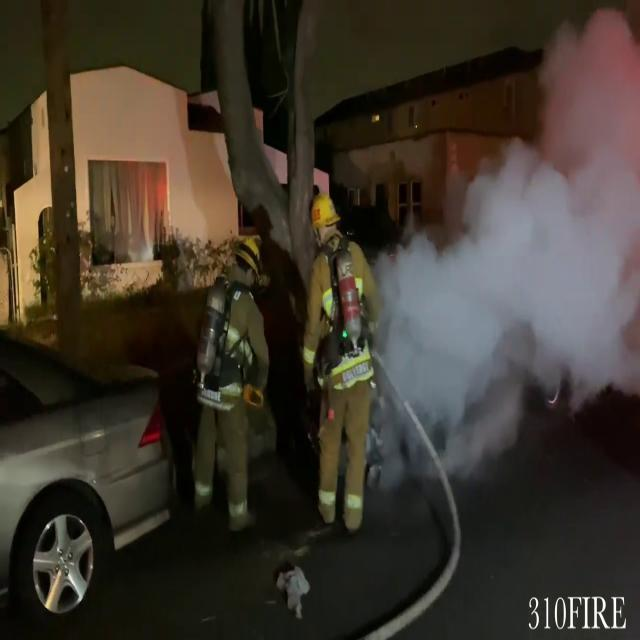Smoke: (387, 9, 640, 470)
